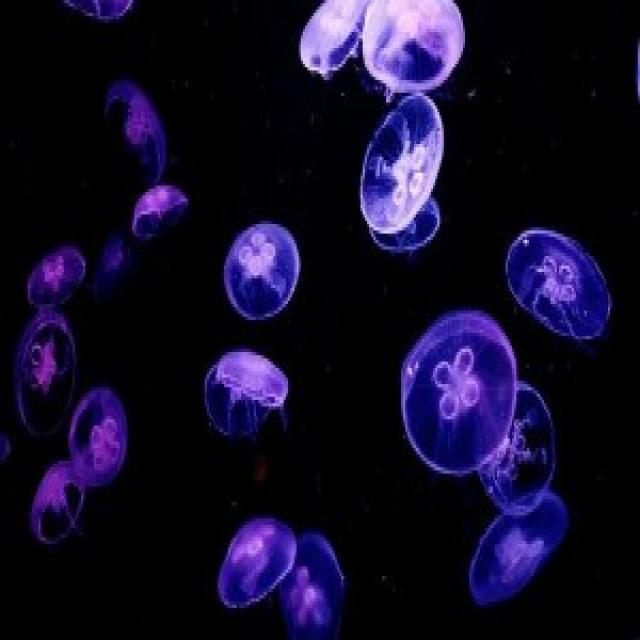Jellyfish: (394, 307, 514, 478), (506, 215, 610, 356), (364, 102, 448, 260), (361, 0, 475, 93), (466, 503, 572, 602), (224, 221, 304, 322), (16, 311, 81, 432), (219, 505, 293, 611), (101, 80, 180, 178), (202, 350, 283, 441), (284, 525, 348, 640), (508, 384, 569, 496), (75, 381, 131, 496), (32, 461, 90, 555), (19, 243, 92, 312), (306, 0, 361, 91), (132, 190, 192, 242), (64, 0, 135, 32)
